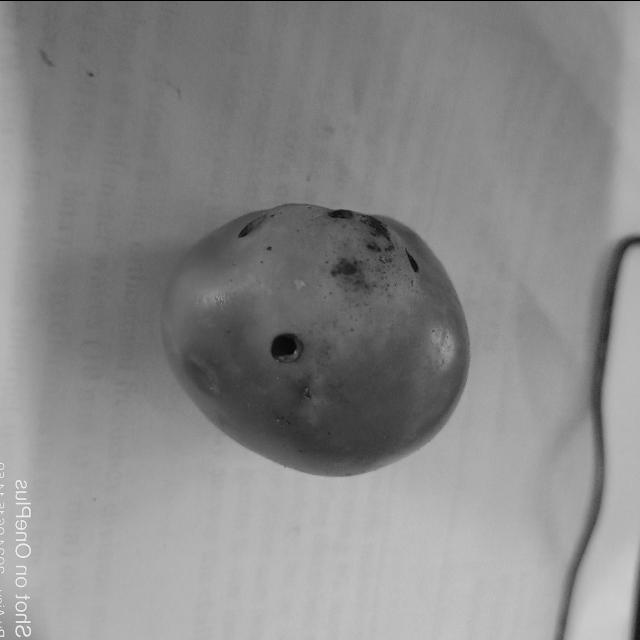fruitworm_bore: (268, 328, 306, 364)
